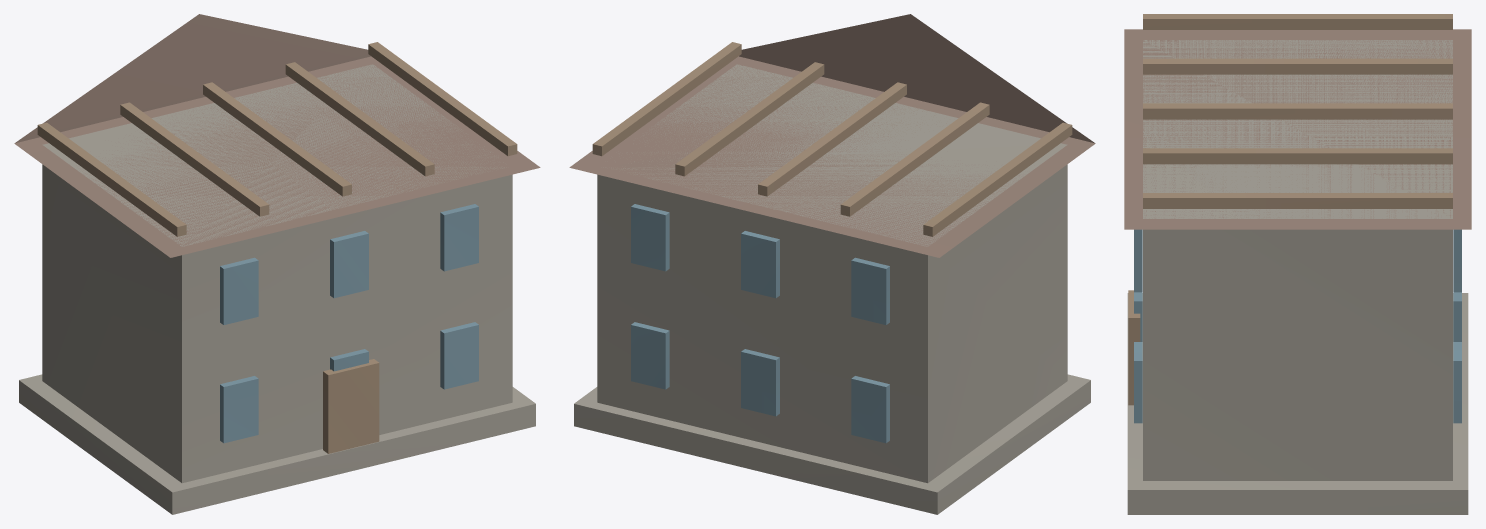
Rendered from greenhouse-01.glb.
3 renders of one model, left to right at view 1: azimuth 30°, elevation 25°; view 2: azimuth 150°, elevation 25°; view 3: azimuth 270°, elevation 25°, orthographic. The views are drawn at different scales.
Visible parts, largest first — view 1: world; view 2: world; view 3: world.
Part boxes in pixels (bbox=[...]): world: bbox=[14, 14, 540, 514]; world: bbox=[569, 14, 1095, 514]; world: bbox=[1124, 14, 1471, 514].
Size of the model in its own units: 1.38 by 1.22 by 1.01.
